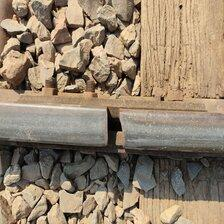railway-gap: (81, 98, 151, 160)
